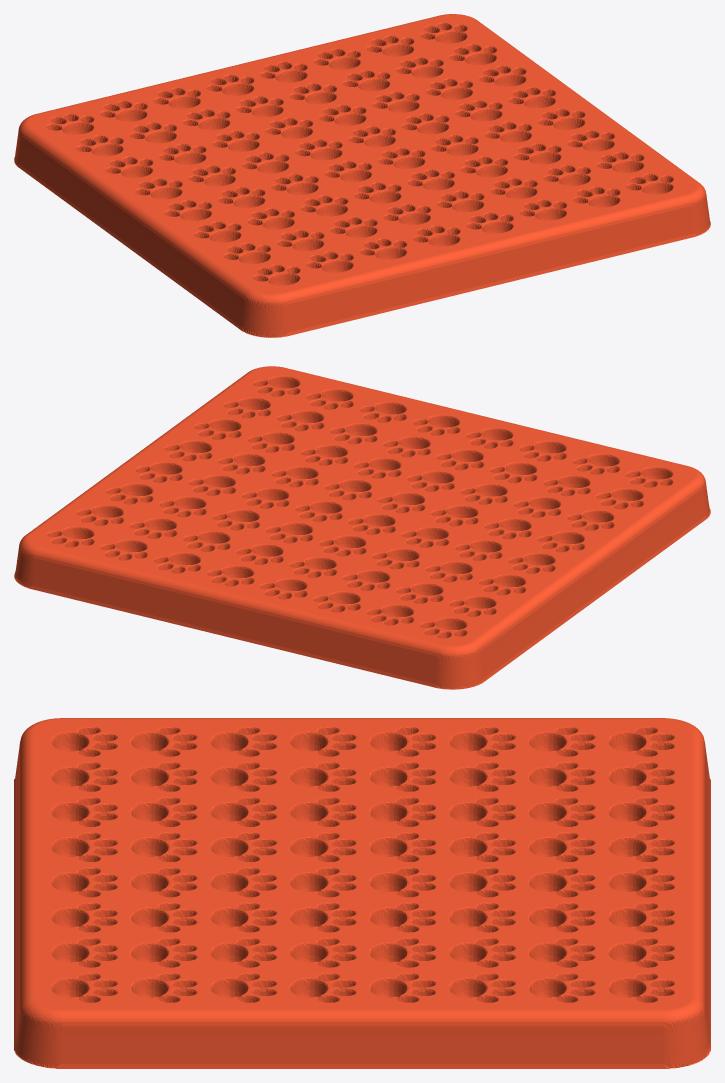
The model's file is mold.glb.
The picture shows the model from 3 angles, top to bottom: view 1: azimuth 30°, elevation 25°; view 2: azimuth 150°, elevation 25°; view 3: azimuth 270°, elevation 25°; orthographic projection. The views are drawn at different scales.
Visible parts, largest first — view 1: geometry_0; view 2: geometry_0; view 3: geometry_0.
Boxes of the visible parts, x1=… form: geometry_0: x1=14, y1=14, x2=710, y2=337; geometry_0: x1=14, y1=366, x2=710, y2=689; geometry_0: x1=14, y1=718, x2=710, y2=1068.
Bounding box in the file's own units: 0.1355 × 0.0105 × 0.1301.
